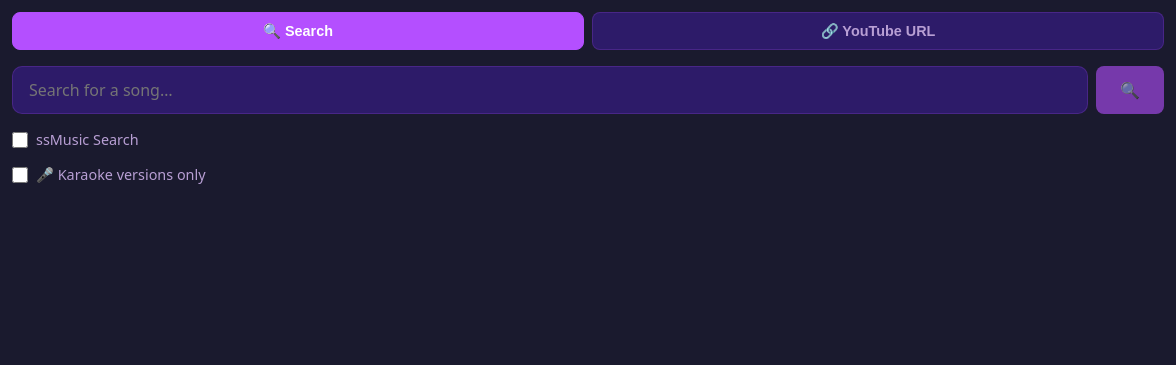
Test: ignores a stale YouTube response after switching sources
In the field with placeholder "Search for a song…": (550, 90) [12, 66, 1088, 114], type "song"
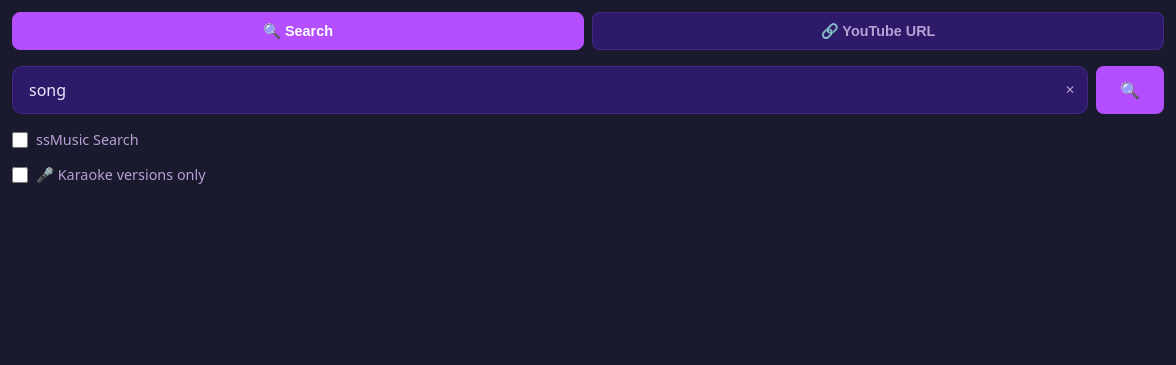
Submit the form, box [12, 66, 1164, 114]
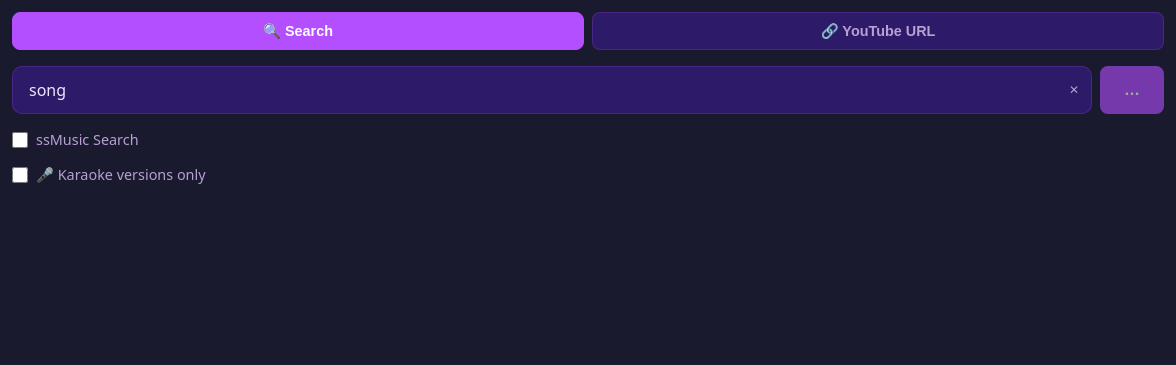
Click the checkbox labelled "ssMusic Search": (20, 140) [12, 132, 28, 148]
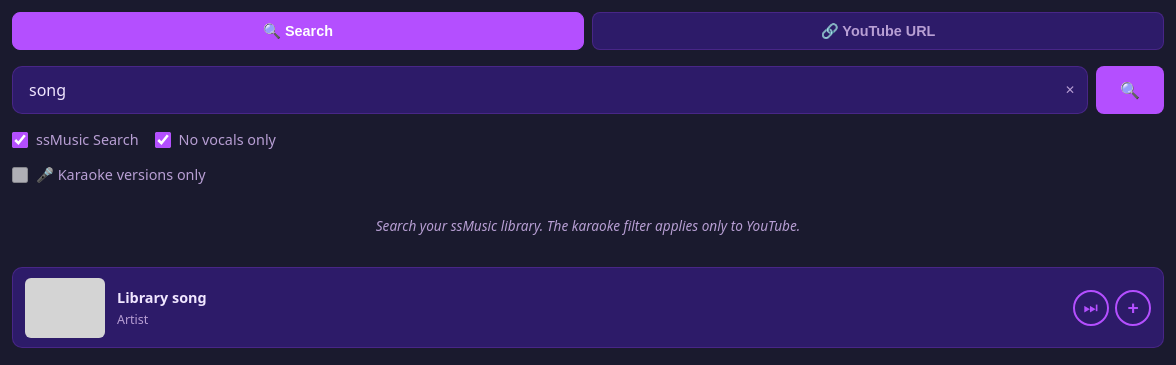
Result: the text "Library song" is shown at [117, 288, 207, 307]
